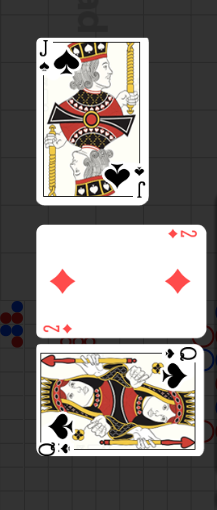2D: (42, 322, 74, 334)
9S: (37, 442, 73, 456)
